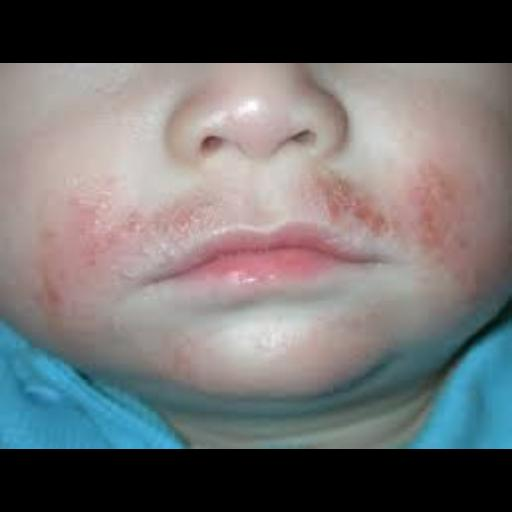Skin_Lesion: (159, 184, 211, 236), (420, 168, 452, 248), (317, 184, 373, 222), (71, 196, 115, 228), (78, 235, 110, 265), (42, 274, 64, 314), (126, 207, 144, 239)
